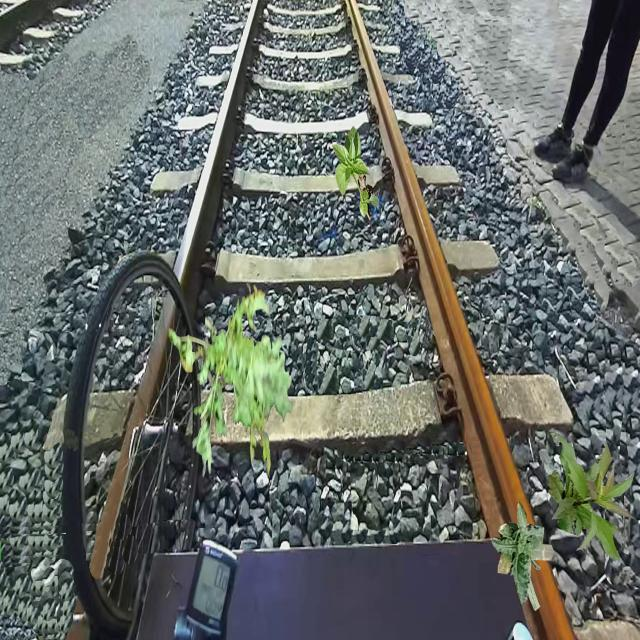Plant: (169, 282, 294, 478), (548, 432, 636, 562), (196, 336, 282, 404), (491, 523, 554, 606), (332, 126, 380, 221), (501, 502, 541, 612)
